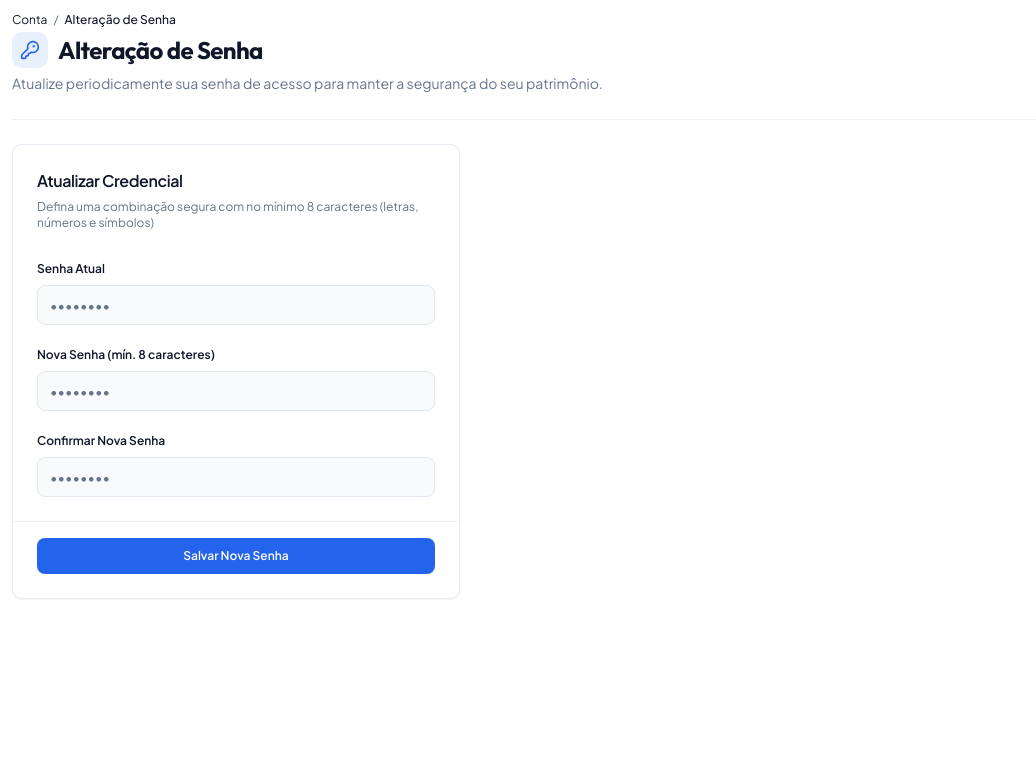
Tela de Alteração de Senha (AccountPasswordPage) › 4. Valida tamanho mínimo de 8 caracteres para nova senha
Type "senha123" into the password field labelled "Senha Atual" at (236, 305), box [37,285,435,325]
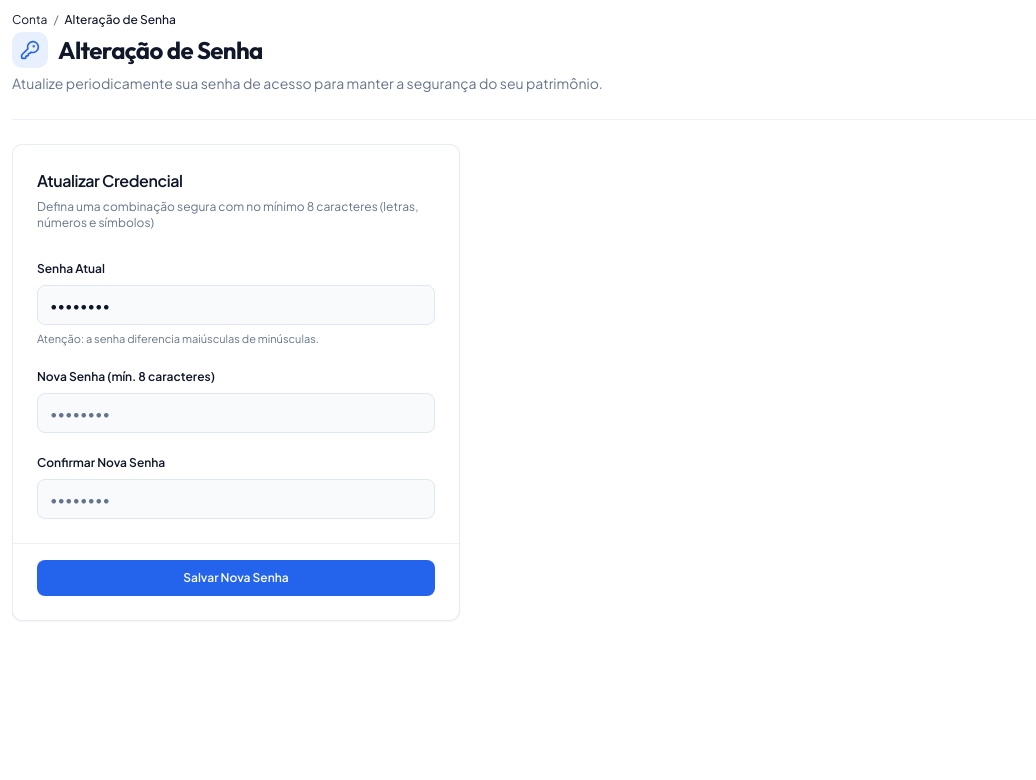
Type "12345" into the password field labelled "Nova Senha (mín. 8 caracteres)" at (236, 413), box [37,393,435,433]
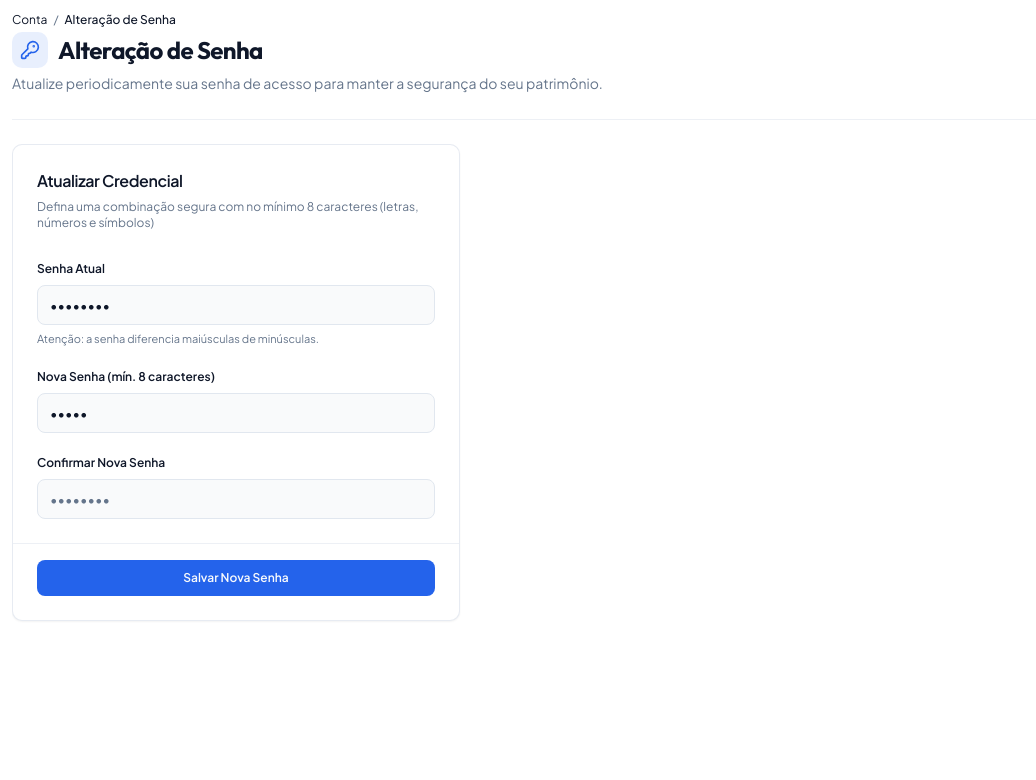
Type "12345" into the password field labelled "Confirmar Nova Senha" at (236, 499), box [37,479,435,519]
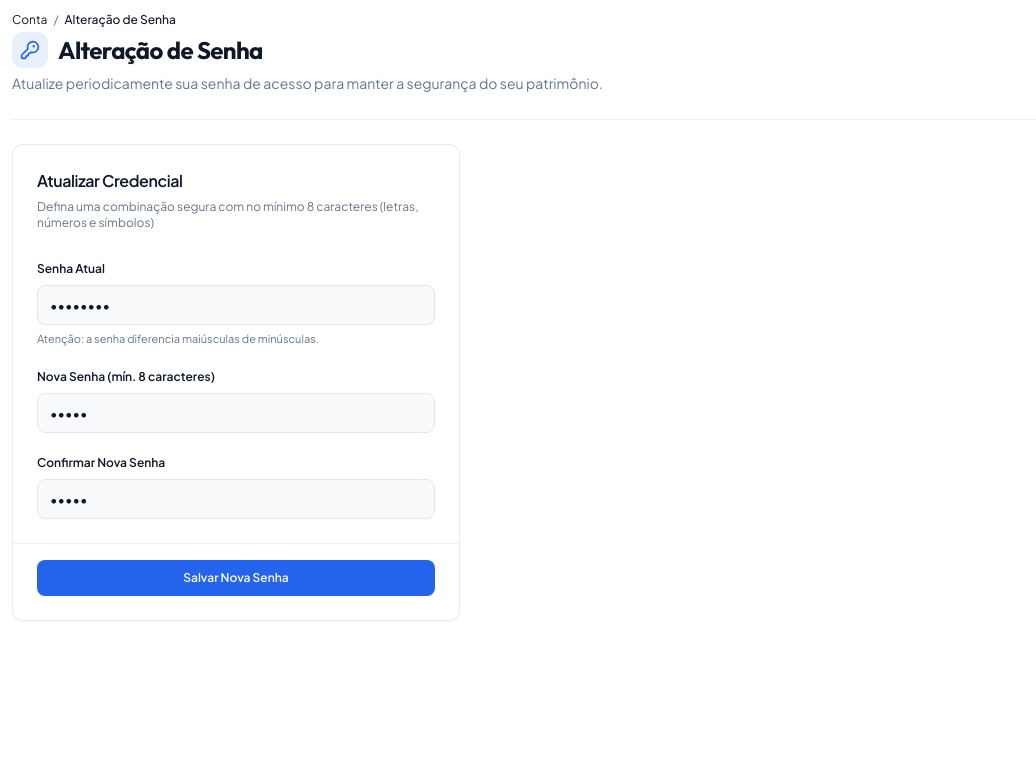
Click the button "Salvar Nova Senha" at (236, 578), box [37,560,435,596]
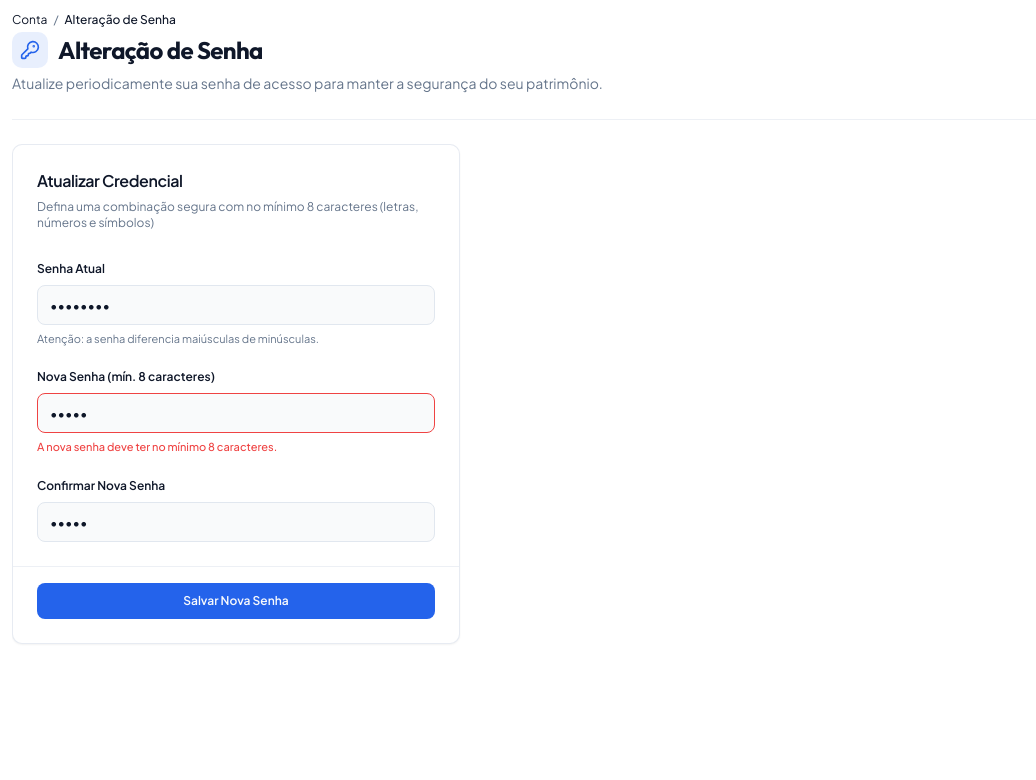
expect the text "A nova senha deve ter no mínimo 8 caracteres." is shown: met, box [37,440,277,453]
